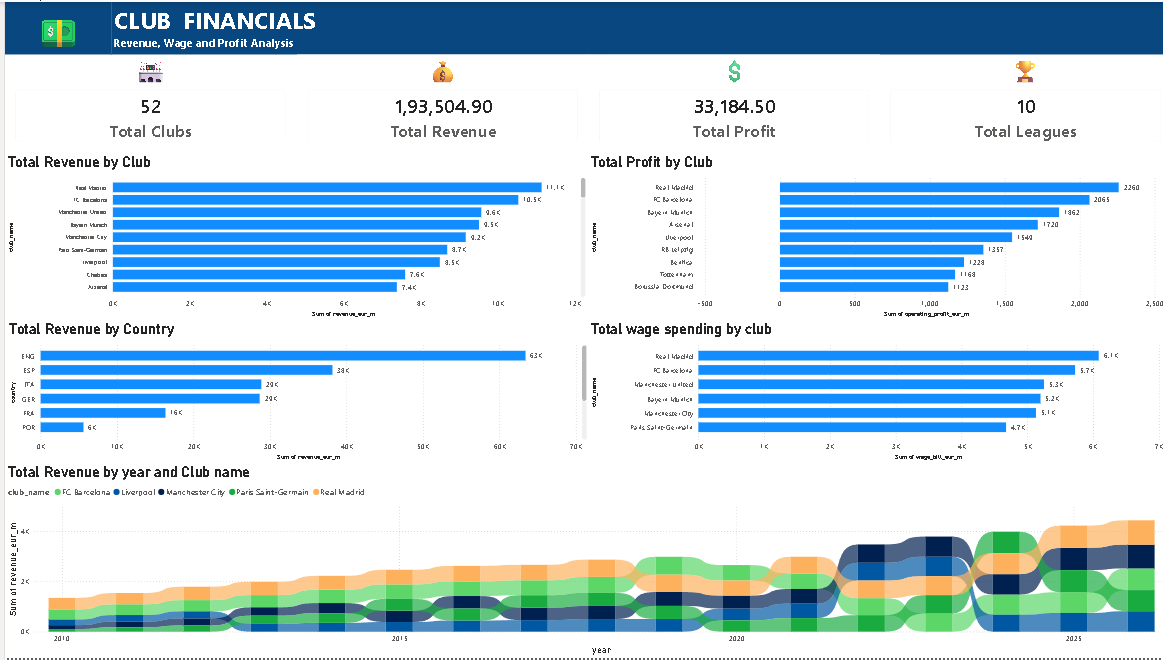

What the dashboard file says about the page in this screenshot:
{"tool":"powerbi","page":{"name":"Club Financials","canvas":[1280,1500],"ordinal":1},"visuals":[{"type":"cardVisual","fields":{"Data":["club_financials.Total Clubs"]},"box":[640,100,321.7,126.7],"z":0},{"type":"cardVisual","fields":{"Data":["club_financials.Total_leagues"]},"box":[961.7,100,318.3,126.7],"z":1000},{"type":"clusteredBarChart","title":"Total Revenue by Club","fields":{"Category":["club_financials.club_name"],"Y":["Sum(club_financials.revenue_eur_m)"]},"box":[0,226.7,1280,203.3],"z":2000},{"type":"clusteredBarChart","title":"Total Profit by Club","fields":{"Category":["club_financials.club_name"],"Y":["Sum(club_financials.operating_profit_eur_m)"]},"box":[0,430,1280,191.7],"z":3000},{"type":"clusteredBarChart","title":"Total wage spending by club","fields":{"Category":["club_financials.club_name"],"Y":["Sum(club_financials.wage_bill_eur_m)"]},"box":[0,628.3,1280,200],"z":4000},{"type":"ribbonChart","title":"Total Revenue by year and Club name","fields":{"Category":["club_financials.year"],"Y":["Sum(club_financials.revenue_eur_m)"],"Series":["club_financials.club_name"]},"box":[0,1073.3,1280,426.7],"z":5000},{"type":"textbox","box":[0,0,1280,86.7],"z":7000},{"type":"cardVisual","fields":{"Data":["club_financials.Total Revenue"]},"box":[0,100,303.3,126.7],"z":8000},{"type":"cardVisual","fields":{"Data":["club_financials.Total Profit"]},"box":[303.3,100,336.7,126.7],"z":9000},{"type":"clusteredBarChart","title":"Total Revenue by Country","fields":{"Category":["club_financials.country"],"Y":["Sum(club_financials.revenue_eur_m)"]},"box":[0,828.3,1280,245],"z":10000}]}

Visuals, with their boxes on the page's 1280x1500 design canvas (x1, y1, x2, y2). These are canvas units, not pixel positions in the 1163x660 screenshot, which may show the page scaled, cropped or inside an application window:
cardVisual - club_financials.Total Clubs: [left=640, top=100, right=962, bottom=227]
cardVisual - club_financials.Total_leagues: [left=962, top=100, right=1280, bottom=227]
"Total Revenue by Club" clusteredBarChart: [left=0, top=227, right=1280, bottom=430]
"Total Profit by Club" clusteredBarChart: [left=0, top=430, right=1280, bottom=622]
"Total wage spending by club" clusteredBarChart: [left=0, top=628, right=1280, bottom=828]
"Total Revenue by year and Club name" ribbonChart: [left=0, top=1073, right=1280, bottom=1500]
textbox: [left=0, top=0, right=1280, bottom=87]
cardVisual - club_financials.Total Revenue: [left=0, top=100, right=303, bottom=227]
cardVisual - club_financials.Total Profit: [left=303, top=100, right=640, bottom=227]
"Total Revenue by Country" clusteredBarChart: [left=0, top=828, right=1280, bottom=1073]
